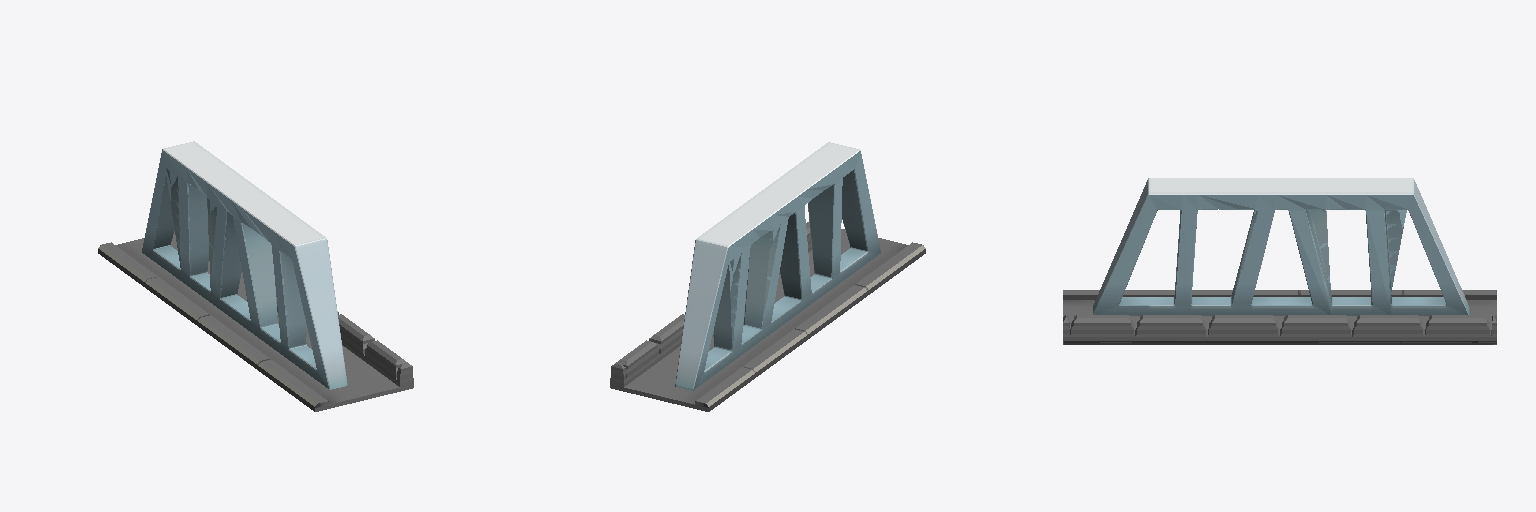
3 views of the same model, side by side, from view 1: azimuth 30°, elevation 25°; view 2: azimuth 150°, elevation 25°; view 3: azimuth 270°, elevation 25° (orthographic).
Visible parts, largest first — view 1: house2.014_Cube.044; view 2: house2.014_Cube.044; view 3: house2.014_Cube.044.
Part boxes in pixels (bbox=[...]): house2.014_Cube.044: bbox=[98, 141, 413, 411]; house2.014_Cube.044: bbox=[610, 142, 925, 411]; house2.014_Cube.044: bbox=[1063, 178, 1496, 344].
Bounding box in the file's own units: 3.17 × 3.99 × 12.08.
Materials: 2 (2 with a texture image).